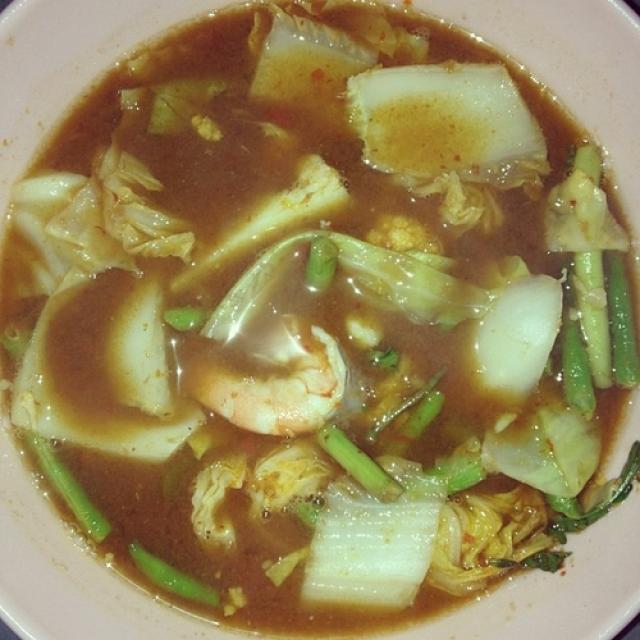汤锅炖物: (11, 5, 635, 626)
